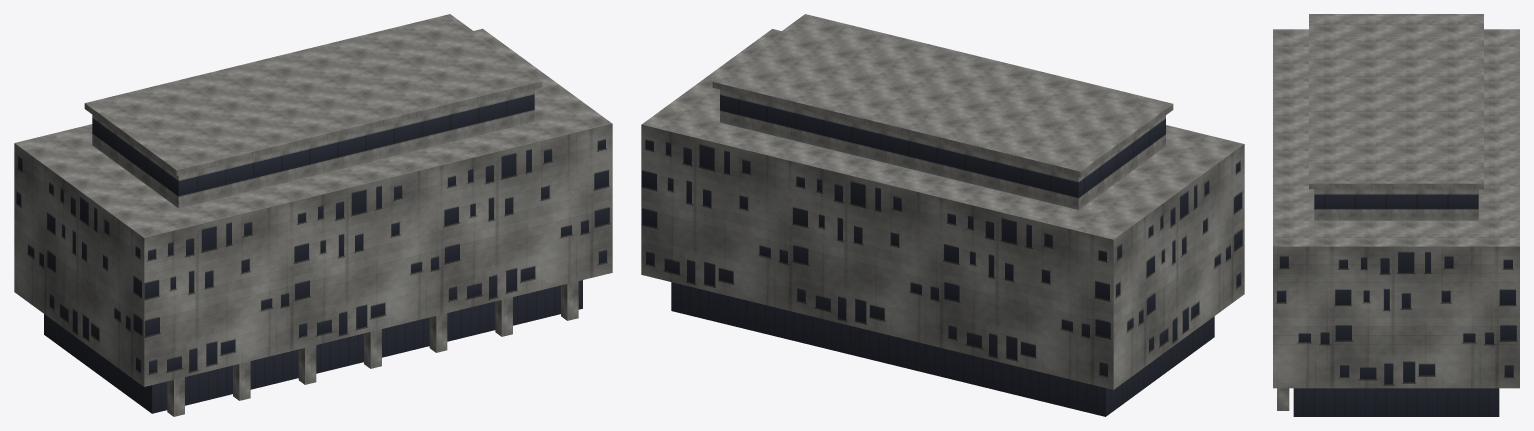
The model's file is telefoane.obj.
3 views of the same model, side by side, from view 1: azimuth 30°, elevation 25°; view 2: azimuth 150°, elevation 25°; view 3: azimuth 270°, elevation 25° (orthographic). The views are drawn at different scales.
Visible parts, largest first — view 1: Mass_FacadeRandom, Parapet_Concrete, Mass_Concrete, Setback_FacadeRibbon, GroundFloor_Glass, Pillars_Concrete; view 2: Mass_FacadeRandom, Parapet_Concrete, Mass_Concrete, GroundFloor_Glass, Setback_FacadeRibbon; view 3: Mass_FacadeRandom, Parapet_Concrete, Mass_Concrete, GroundFloor_Glass, Setback_FacadeRibbon, Pillars_Concrete.
Part boxes in pixels (x1=…): Mass_FacadeRandom: x1=14, y1=124, x2=612, y2=386; Parapet_Concrete: x1=84, y1=14, x2=542, y2=176; Mass_Concrete: x1=14, y1=28, x2=612, y2=237; Setback_FacadeRibbon: x1=92, y1=89, x2=534, y2=208; GroundFloor_Glass: x1=44, y1=280, x2=582, y2=413; Pillars_Concrete: x1=167, y1=281, x2=578, y2=416; Mass_FacadeRandom: x1=641, y1=124, x2=1244, y2=389; Parapet_Concrete: x1=712, y1=14, x2=1173, y2=177; Mass_Concrete: x1=642, y1=29, x2=1243, y2=239; GroundFloor_Glass: x1=671, y1=282, x2=1214, y2=416; Setback_FacadeRibbon: x1=720, y1=89, x2=1165, y2=209; Mass_FacadeRandom: x1=1273, y1=246, x2=1519, y2=388; Parapet_Concrete: x1=1309, y1=14, x2=1483, y2=189; Mass_Concrete: x1=1273, y1=29, x2=1519, y2=246; GroundFloor_Glass: x1=1293, y1=388, x2=1499, y2=416; Setback_FacadeRibbon: x1=1314, y1=189, x2=1478, y2=220; Pillars_Concrete: x1=1277, y1=388, x2=1289, y2=410.
Size of the model in its own units: 50 by 23.4 by 24.
4 materials, 4 textured.
